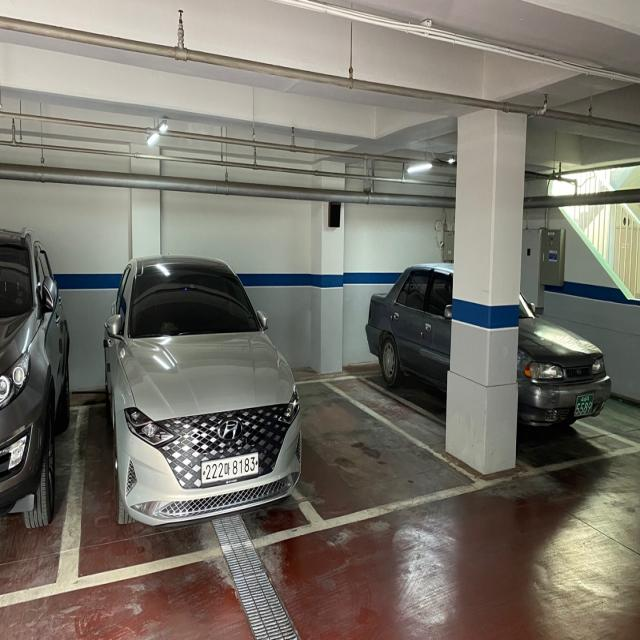empty: (293, 364, 491, 541)
occupied: (105, 259, 302, 520)
